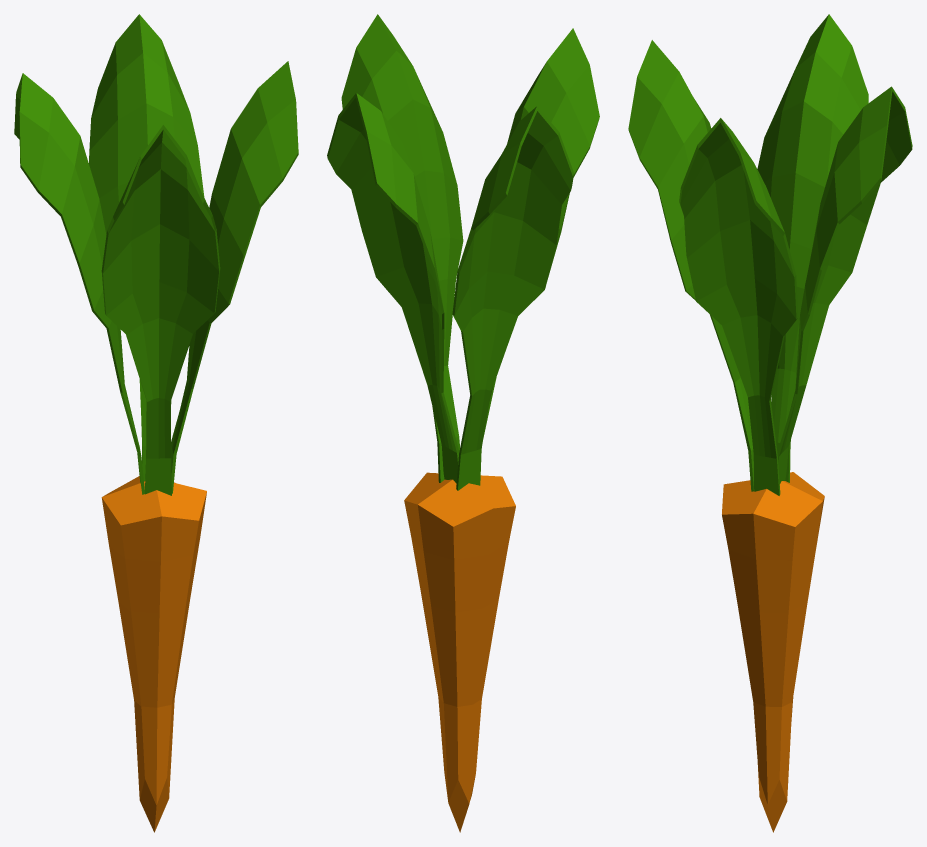
The model's file is Carrot.fbx.
3 renders of one model, left to right at view 1: azimuth 30°, elevation 25°; view 2: azimuth 150°, elevation 25°; view 3: azimuth 270°, elevation 25°, orthographic.
Parts seen in each view (by area): view 1: Carrot; view 2: Carrot; view 3: Carrot.
Part boxes in pixels (<box>): Carrot: <box>14,14,298,832</box>; Carrot: <box>327,14,599,832</box>; Carrot: <box>628,14,912,832</box>.
Bounding box in the file's own units: 94.67 × 278 × 93.16.
